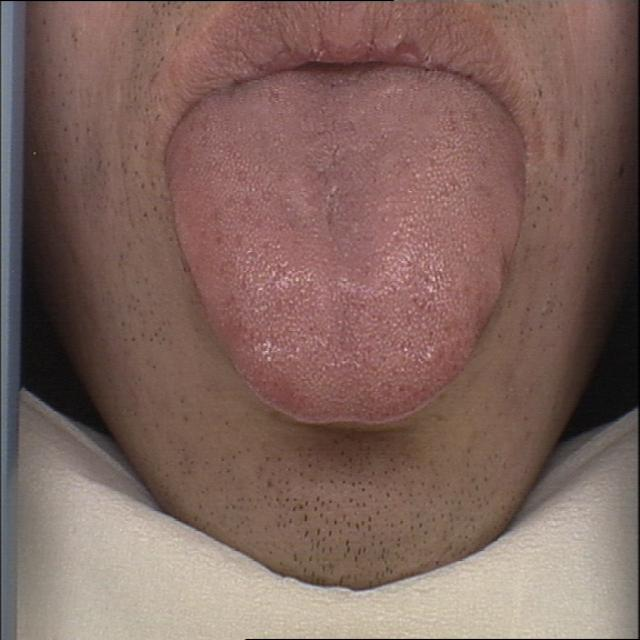tongue: (159, 74, 532, 433)
